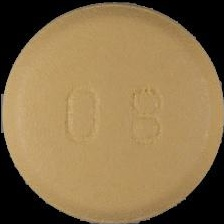54868-4601: (0, 0, 224, 224)
